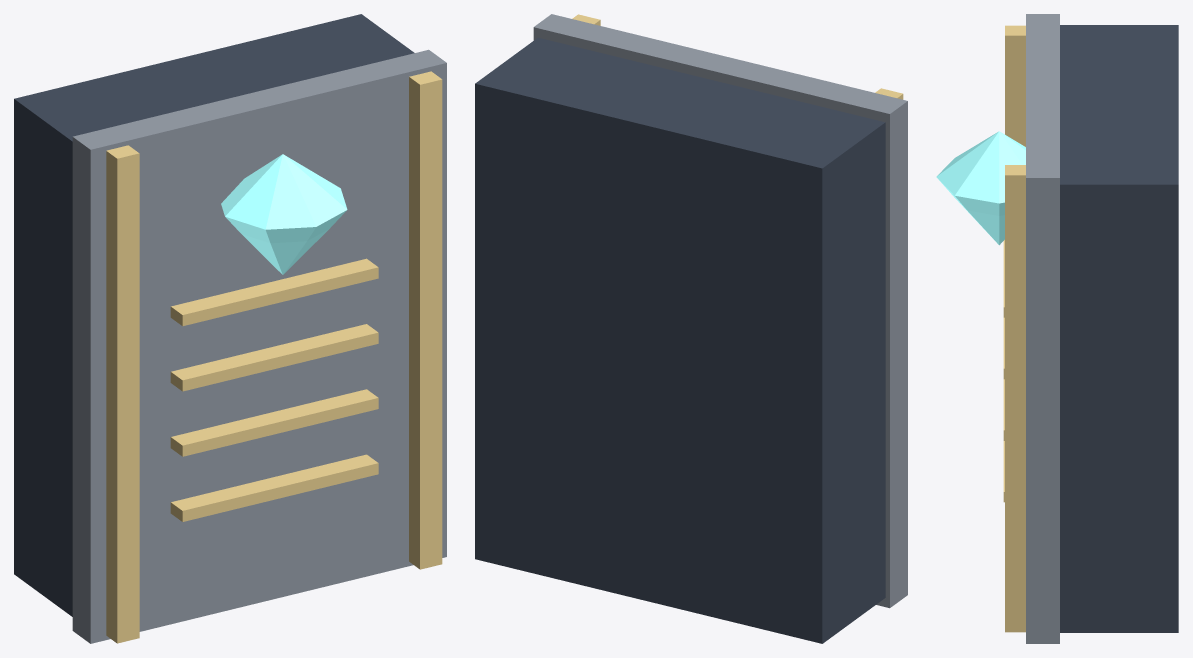
File: angel_relic.gltf
The picture shows the model from 3 angles, left to right: view 1: azimuth 30°, elevation 25°; view 2: azimuth 150°, elevation 25°; view 3: azimuth 270°, elevation 25°; orthographic projection. The views are drawn at different scales.
Parts seen in each view (by area): view 1: angel_ledger_relic_review; view 2: angel_ledger_relic_review; view 3: angel_ledger_relic_review.
Part boxes in pixels (bbox=[...]): angel_ledger_relic_review: bbox=[14, 14, 446, 643]; angel_ledger_relic_review: bbox=[475, 14, 907, 643]; angel_ledger_relic_review: bbox=[936, 14, 1178, 643].
Size of the model in its own units: 0.4 by 0.53 by 0.25.
